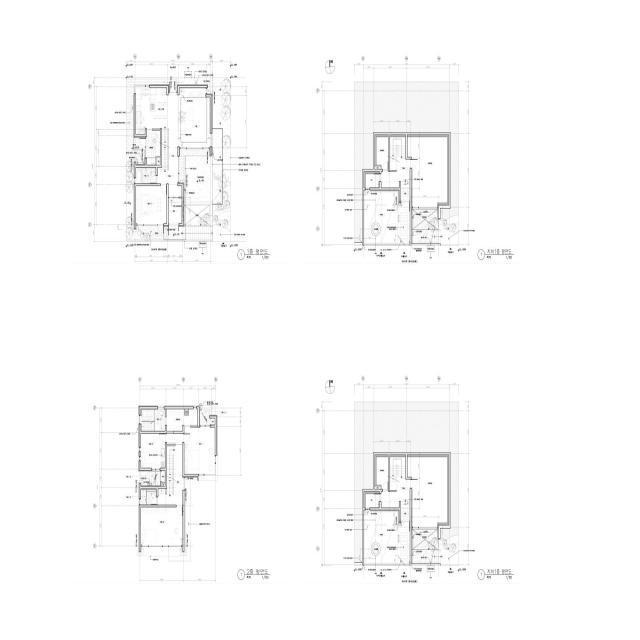space_bedroom: (141, 507, 182, 545), (184, 427, 215, 474), (136, 186, 167, 224), (167, 434, 182, 443)
space_dressroom: (167, 409, 198, 431)
space_front: (168, 198, 182, 223), (401, 181, 410, 200), (401, 501, 410, 520)
space_kitchen: (136, 88, 168, 134), (141, 434, 165, 468)
space_living_room: (158, 88, 210, 197)
space_multipurpose_space: (407, 137, 447, 207), (407, 457, 447, 527), (147, 131, 160, 165)
space_other: (364, 190, 410, 245), (364, 510, 410, 565), (165, 446, 182, 505), (381, 159, 410, 187), (381, 479, 410, 507), (376, 137, 388, 169), (376, 457, 388, 489), (366, 174, 379, 187), (366, 494, 379, 507), (161, 470, 165, 482), (211, 418, 215, 425), (157, 158, 160, 165), (375, 166, 380, 169), (375, 486, 380, 489), (185, 409, 188, 414), (162, 484, 165, 486)
space_staircase: (390, 137, 406, 170), (390, 457, 406, 490), (158, 128, 169, 170), (183, 226, 213, 239), (167, 455, 174, 494)
space_toilet: (141, 409, 165, 431), (136, 167, 156, 183), (141, 490, 156, 505), (158, 489, 165, 505)
